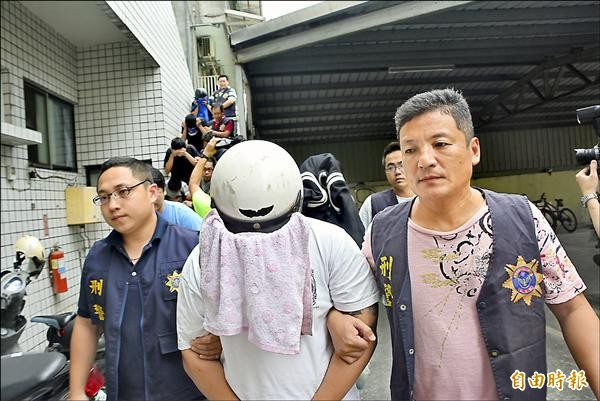helmet: (203, 142, 310, 235)
